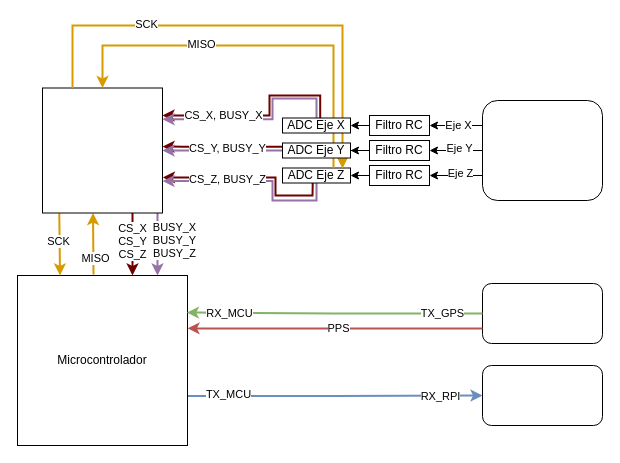
Image size: 620x463. Some labels were removed from this diagram. Here are the shapes that lost their labels. From the top down, the centre of each, then its label:
At [102,150]: "Cambiador de nivel".
At [542,150]: "Acelerómetro".
At [542,313]: "GPS".
At [542,395]: "Raspberry PI".
